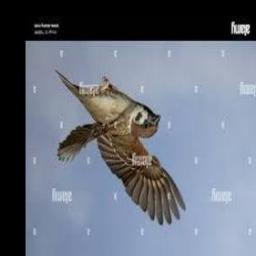Sparrow: (55, 69, 187, 225)
